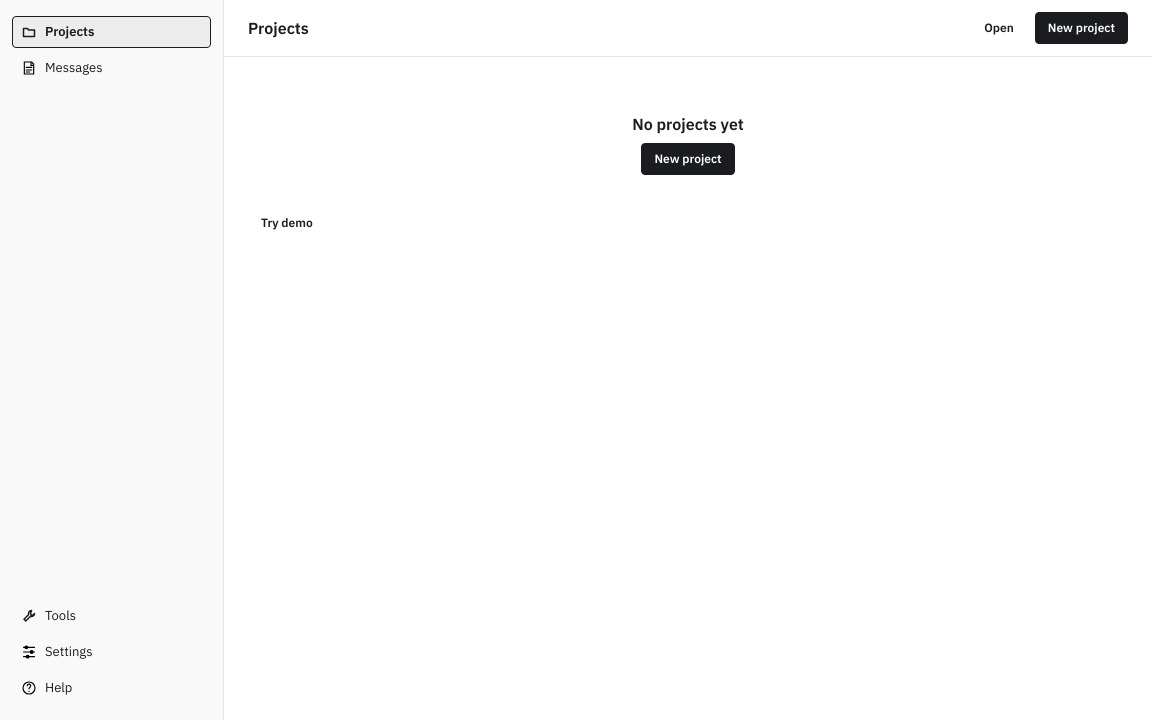
Scenario: a single-message source keeps its browser and closing details does not immediately reopen it
The width and height of the screenshot is (1152, 720).
Expected: the navigation bar named "Main" is shown, 0,0 -> 224,719
Click the button "Tools" at [112, 616], box 12,600 -> 211,632
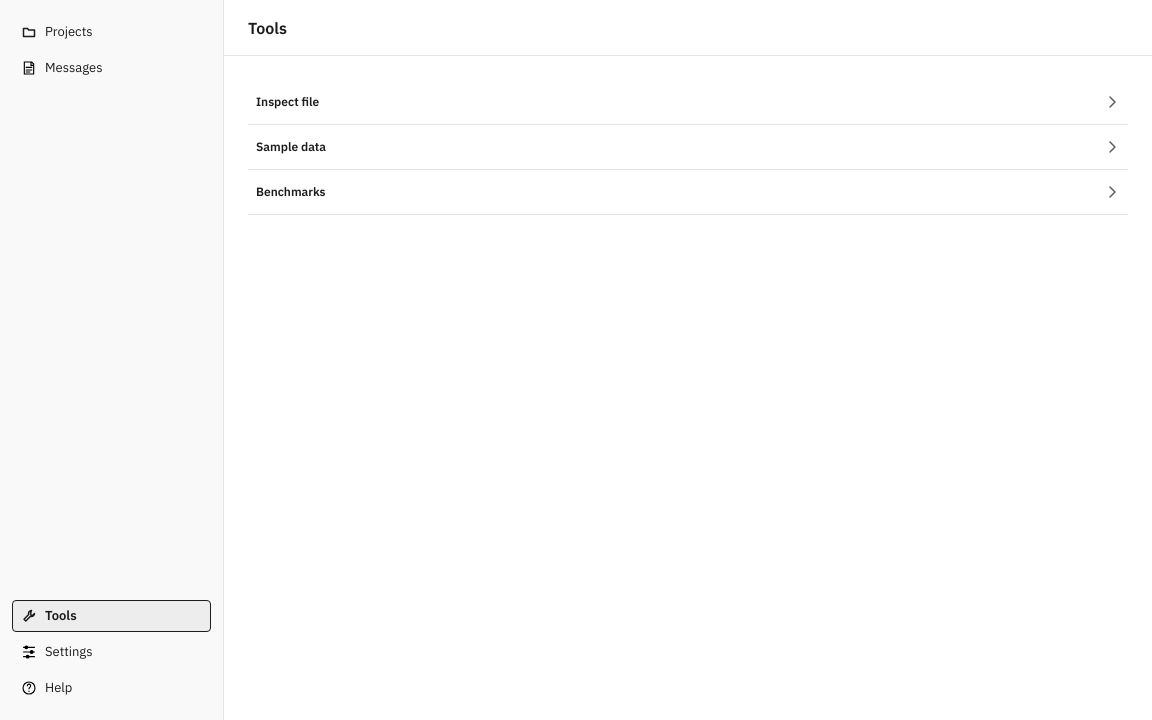
Click the button "Inspect file" at [288, 102], box 248,80 -> 1128,124
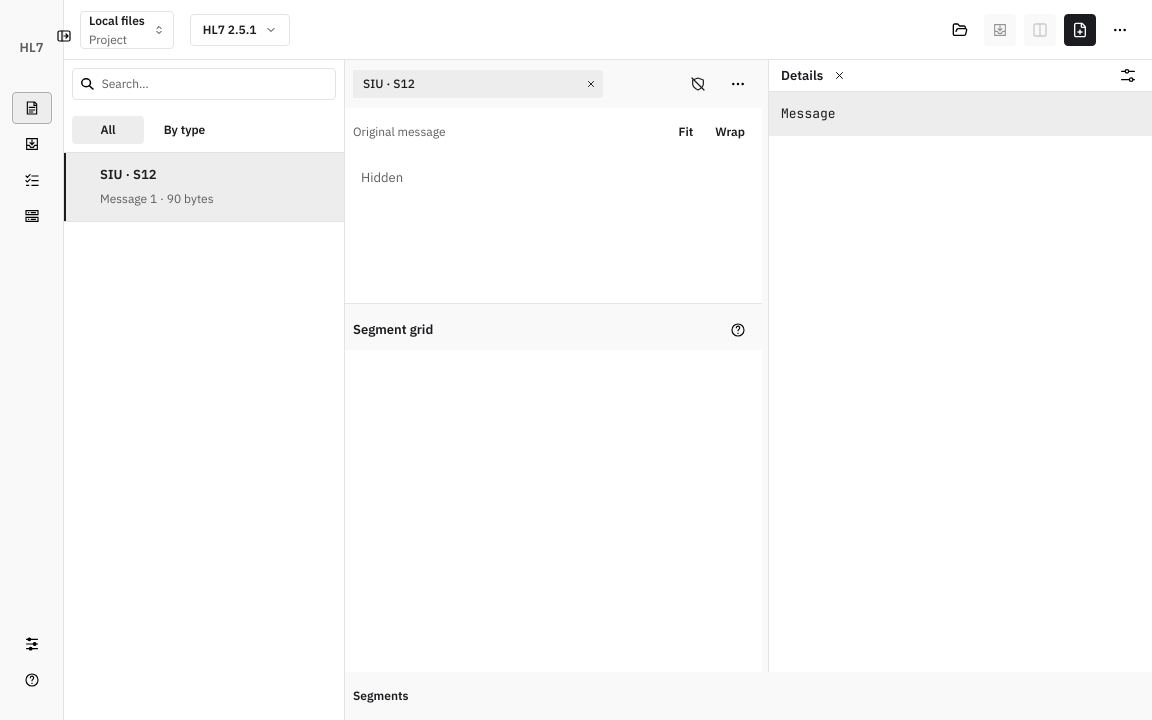
Now the row "SIU · S12 Message 1 · 90 bytes" is shown, box 64,153 -> 344,222
Click the button named "Close message details" at [591, 84], box 579,72 -> 603,96
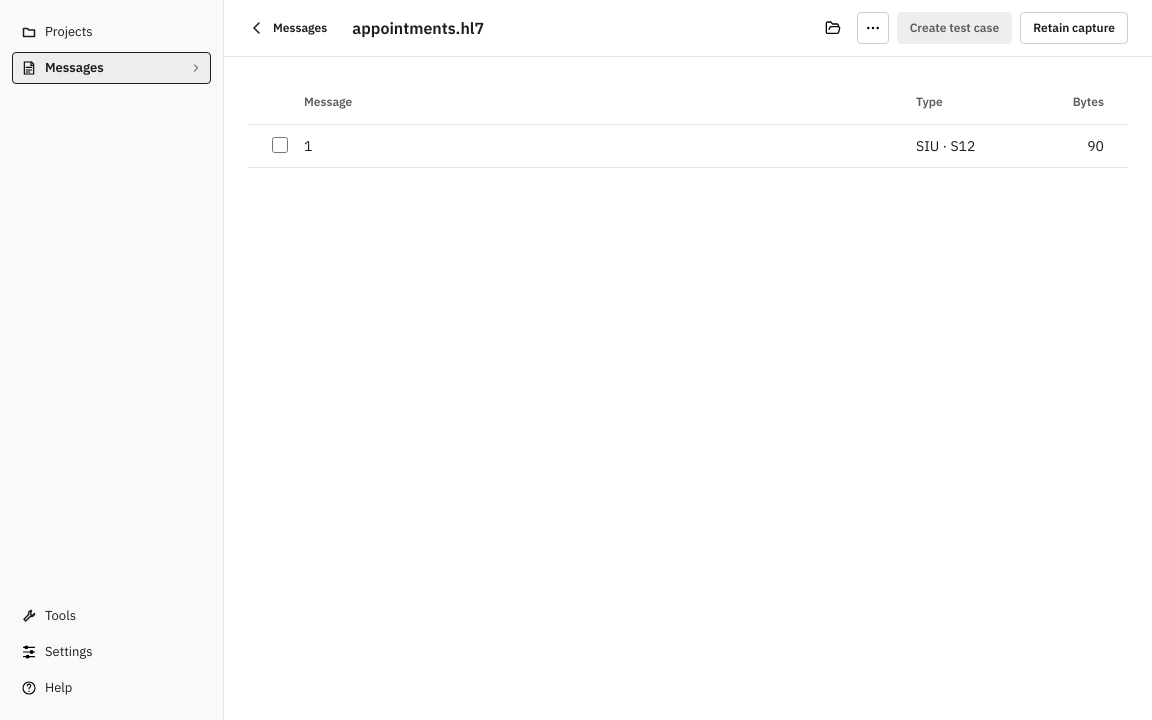
Now the button "Message details" is gone
Click the row "1 SIU · S12 90" at [688, 146], box 248,124 -> 1128,167
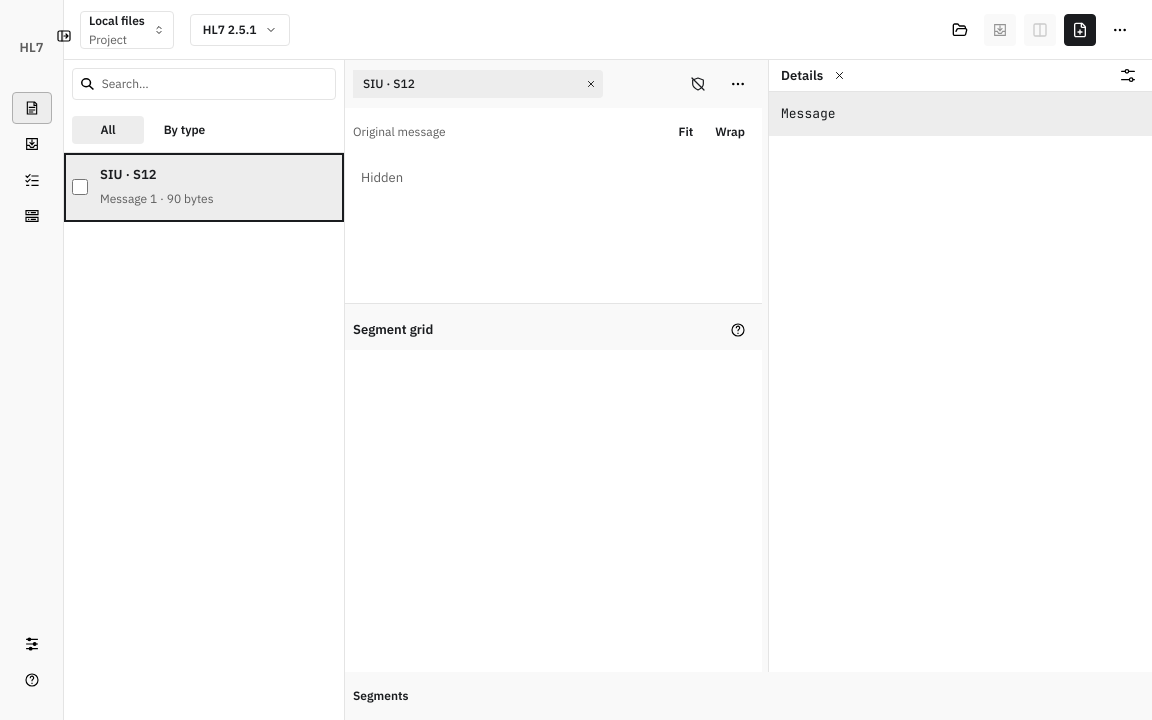
Now the element named "Message details" is shown
